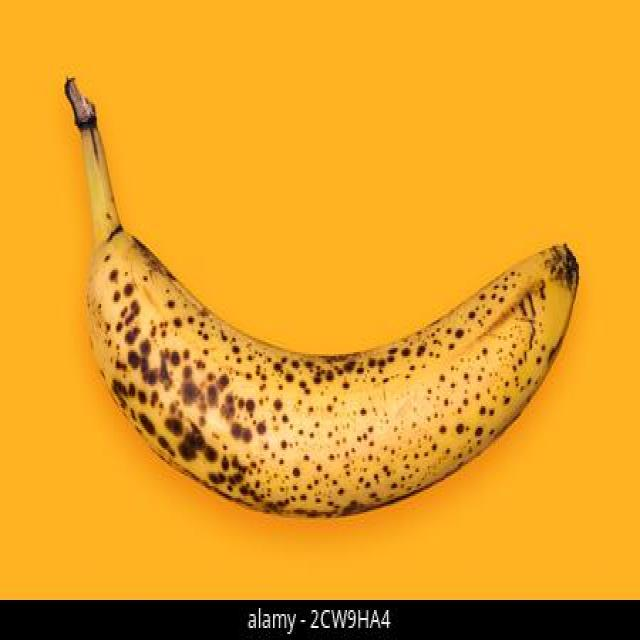overripe: (79, 118, 583, 522)
